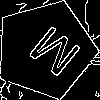M: (20, 24, 84, 86)
